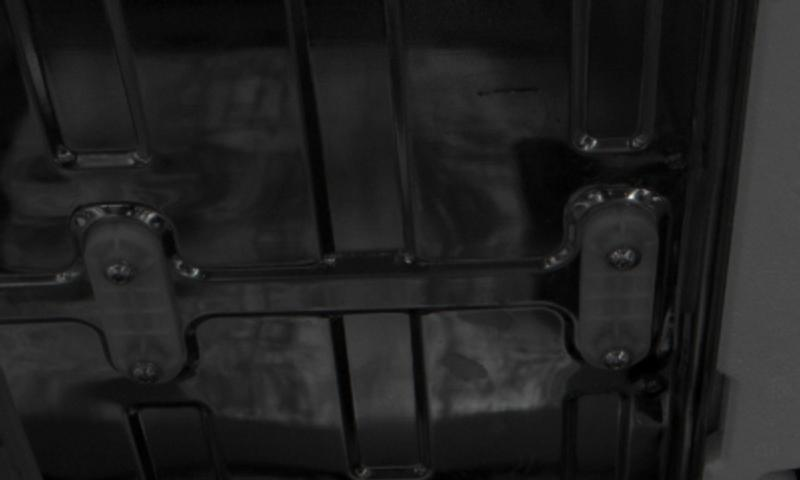vida-ok: (602, 237, 645, 282), (101, 253, 141, 298), (129, 349, 172, 389), (596, 340, 636, 378)
